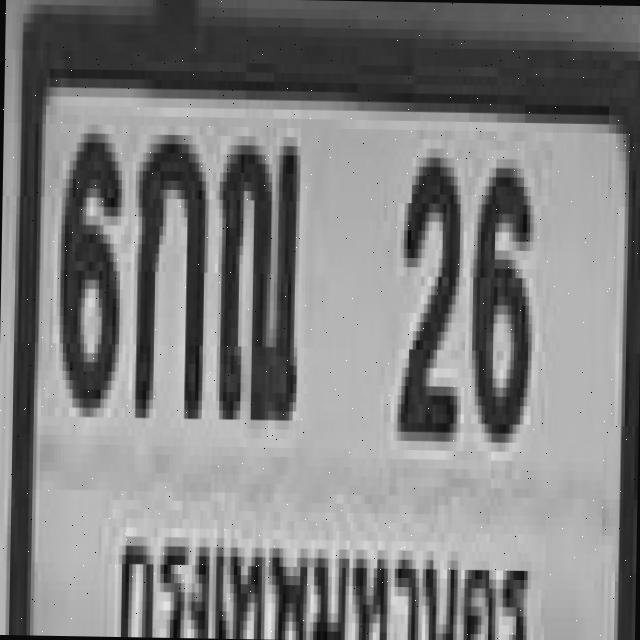10GorGai: (131, 125, 210, 431)
2: (398, 153, 462, 437)
28NorNen: (215, 131, 302, 430)
6: (54, 124, 123, 416), (467, 158, 531, 433)
